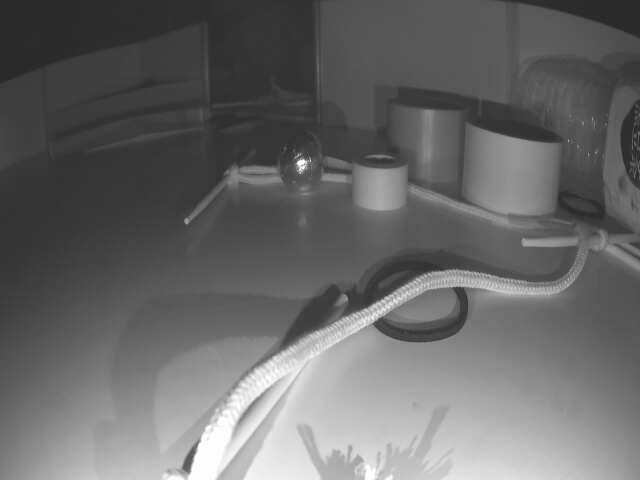Live: (279, 134, 323, 188)
Point: (51, 73, 206, 151)
